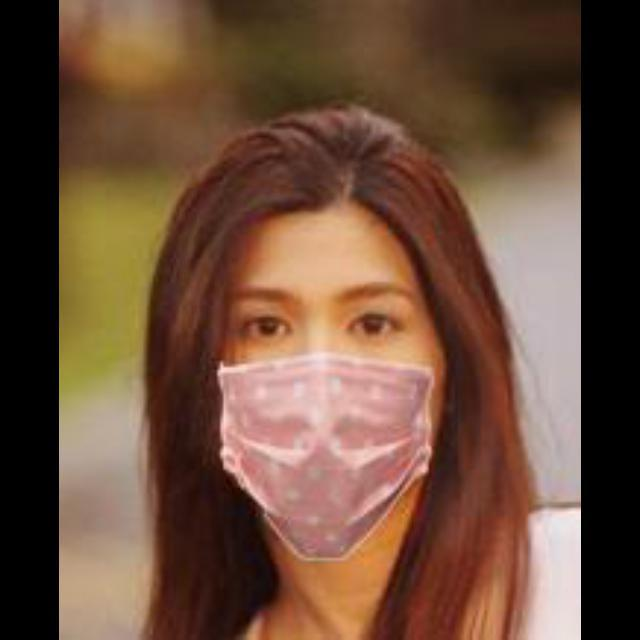suspicion: (178, 156, 466, 554)
